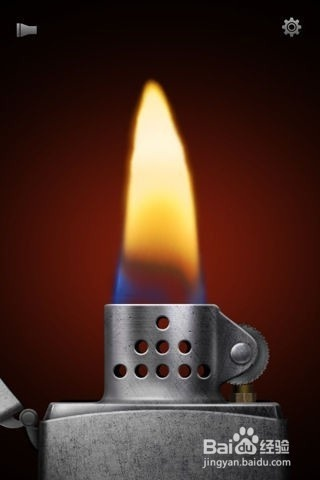fire: (119, 73, 198, 280)
